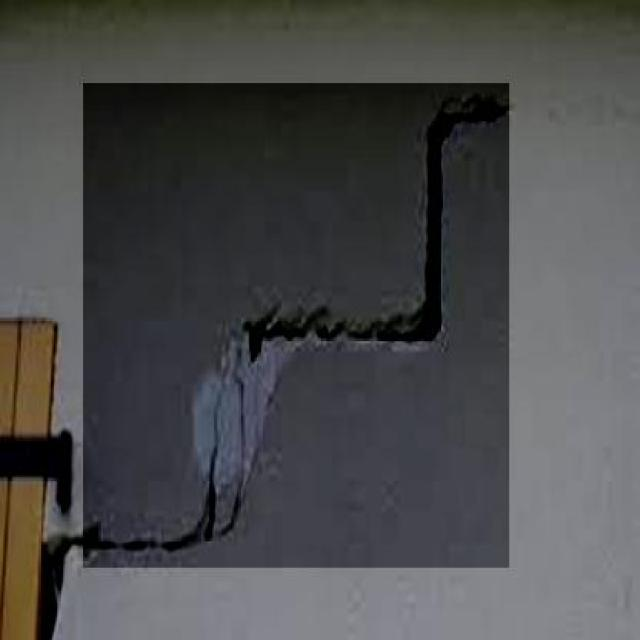Crack: (353, 94, 504, 337), (39, 522, 240, 640), (219, 286, 346, 372), (185, 381, 268, 450), (179, 462, 260, 518)
